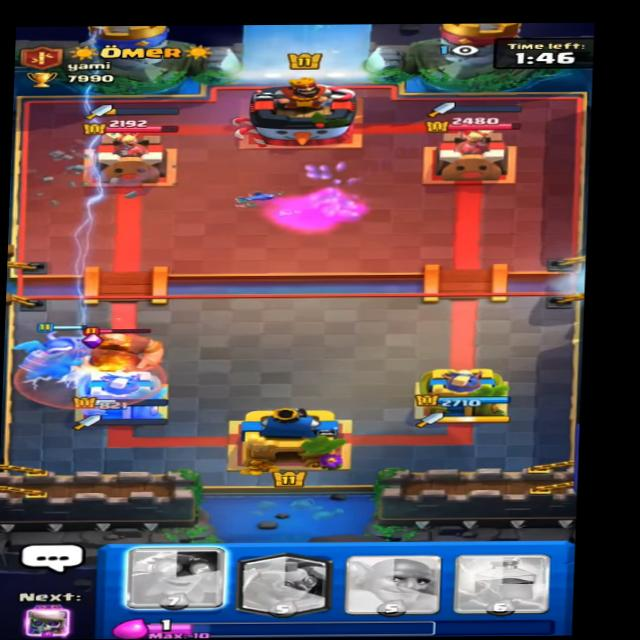giant: (58, 322, 182, 383)
zap: (21, 339, 166, 404)
